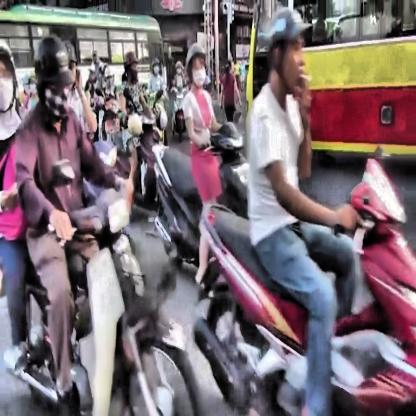wear: (268, 5, 310, 91), (33, 32, 74, 118), (184, 40, 209, 92), (122, 50, 140, 83)
